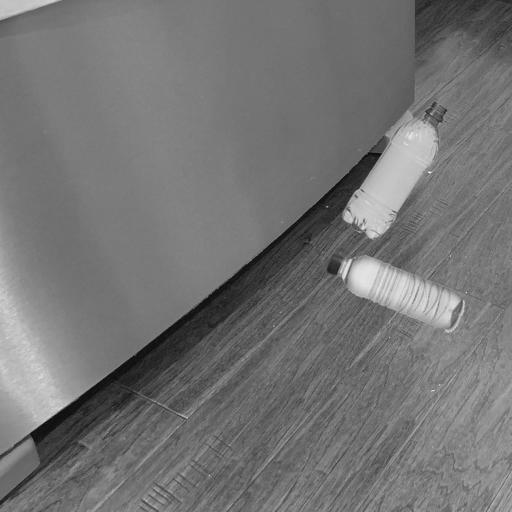bottle: (336, 93, 466, 240), (324, 248, 468, 334)
